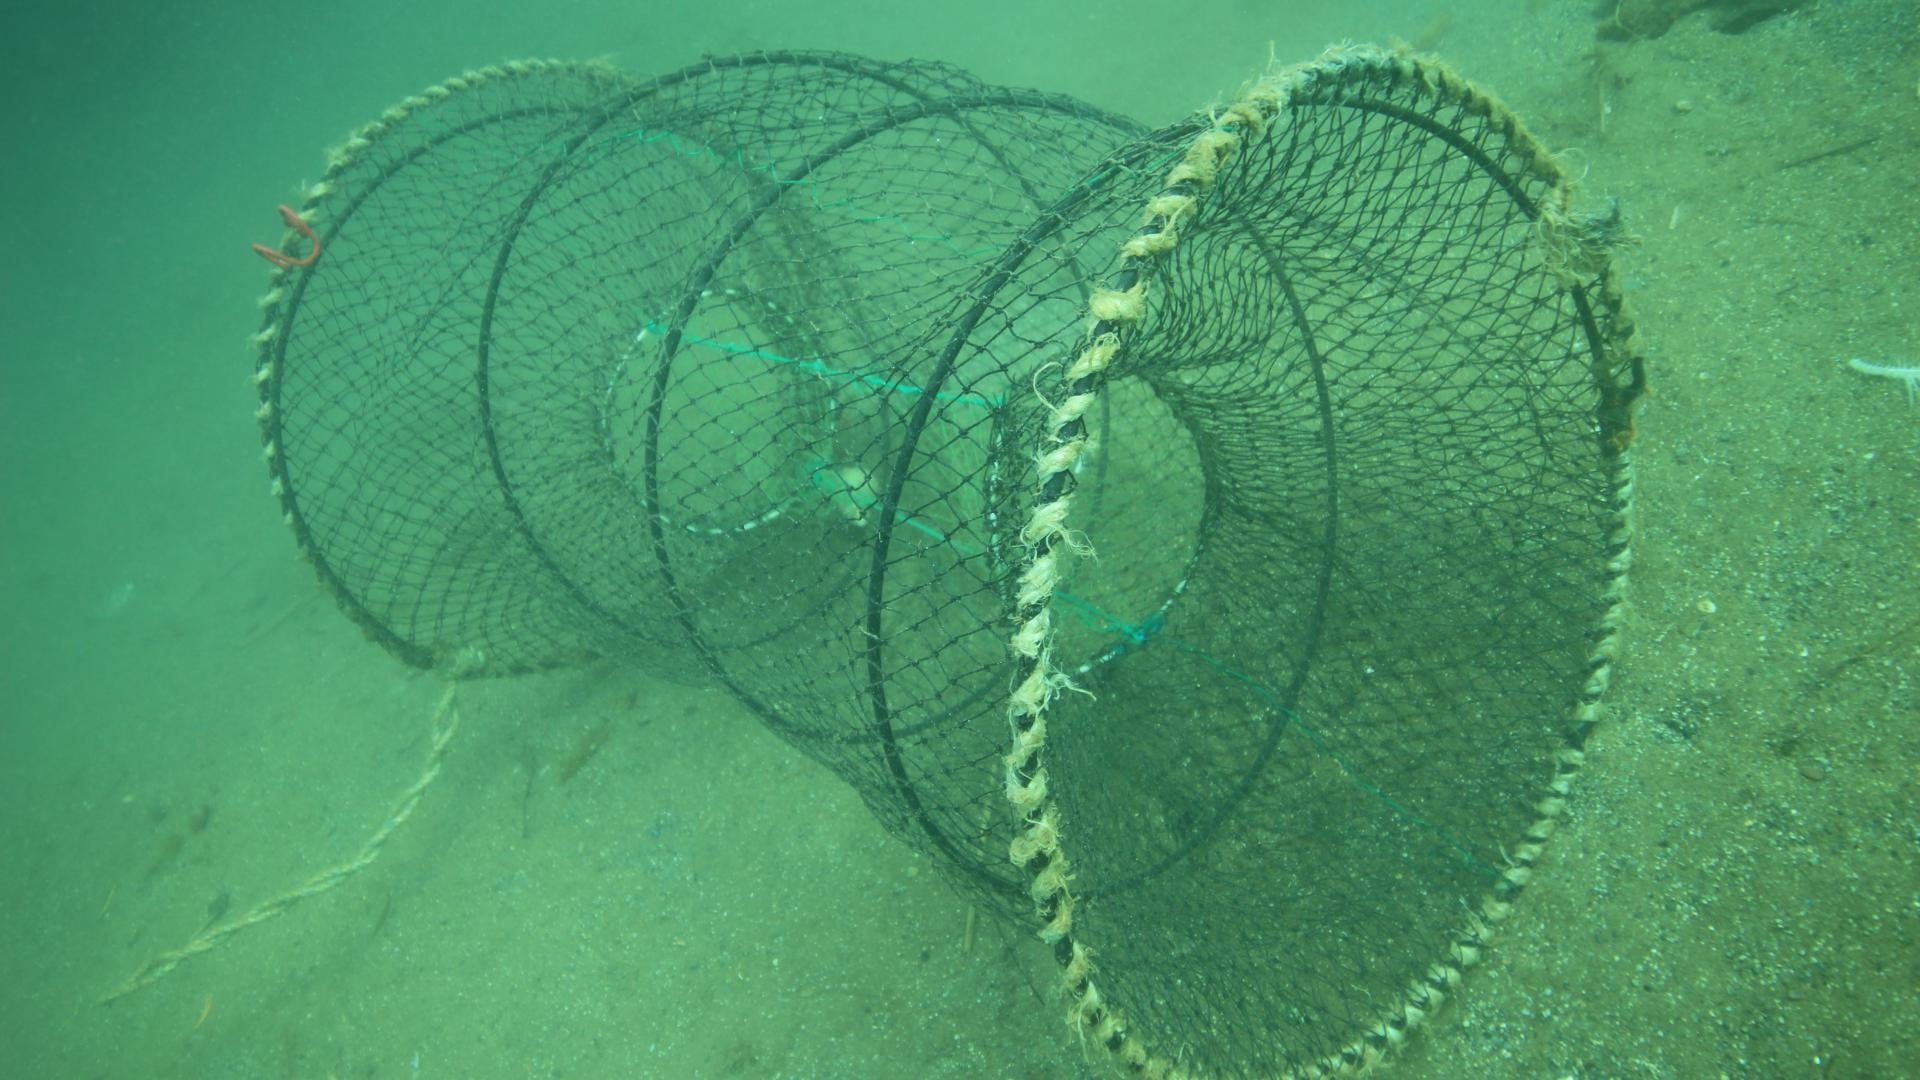bundle of ropes: (79, 683, 471, 1021)
spring fish trap: (252, 40, 1648, 1080)
